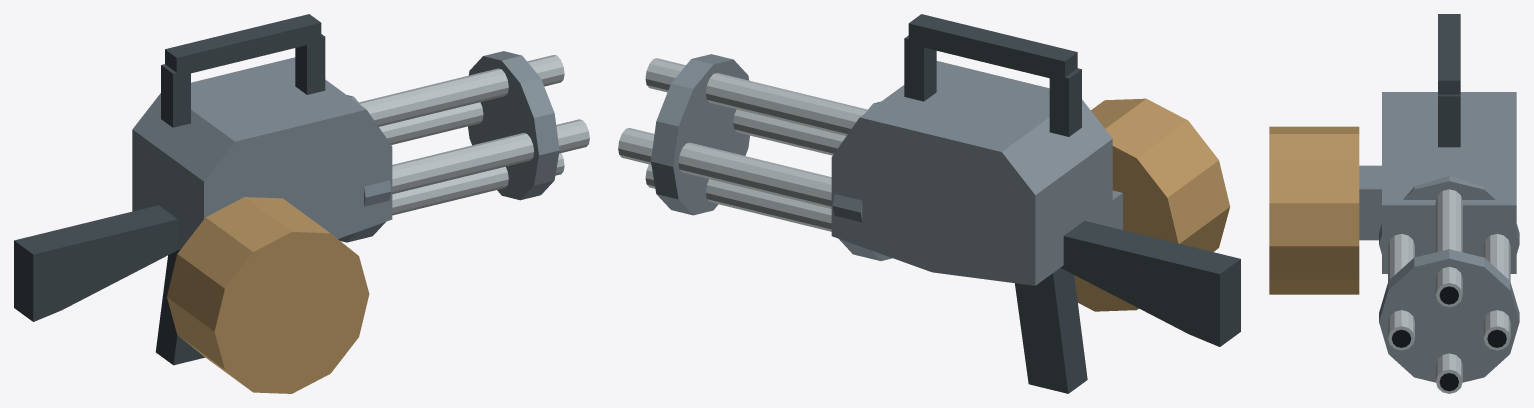
The model's file is w18-thunder-loom-static.glb.
3 views of the same model, side by side, from view 1: azimuth 30°, elevation 25°; view 2: azimuth 150°, elevation 25°; view 3: azimuth 270°, elevation 25° (orthographic). The views are drawn at different scales.
Visible parts, largest first — view 1: w18-thunder-loom__receiver.001, w18-thunder-loom__feed_drum.001, w18-thunder-loom__stock.001, w18-thunder-loom__rotor_front_0.001, w18-thunder-loom__tube_0_2.001, w18-thunder-loom__tube_0_1.001, w18-thunder-loom__carry_handle_top.001, w18-thunder-loom__tube_0_3.001, w18-thunder-loom__tube_0_0.001, w18-thunder-loom__grip.001, w18-thunder-loom__carry_handle_mount_-0.001, w18-thunder-loom__carry_handle_mount_0.001 (+1 smaller); view 2: w18-thunder-loom__receiver.001, w18-thunder-loom__feed_drum.001, w18-thunder-loom__stock.001, w18-thunder-loom__rotor_front_0.001, w18-thunder-loom__grip.001, w18-thunder-loom__tube_0_0.001, w18-thunder-loom__tube_0_1.001, w18-thunder-loom__carry_handle_top.001, w18-thunder-loom__tube_0_3.001, w18-thunder-loom__tube_0_2.001, w18-thunder-loom__carry_handle_mount_-0.001, w18-thunder-loom__carry_handle_mount_0.001 (+1 smaller); view 3: w18-thunder-loom__receiver.001, w18-thunder-loom__feed_drum.001, w18-thunder-loom__rotor_front_0.001, w18-thunder-loom__tube_0_1.001, w18-thunder-loom__carry_handle_top.001, w18-thunder-loom__feed_bridge.001, w18-thunder-loom__tube_0_0.001, w18-thunder-loom__tube_0_2.001, w18-thunder-loom__rotor_rear_0.001, w18-thunder-loom__carry_handle_mount_0.001, w18-thunder-loom__tube_0_3.001, w18-thunder-loom__tube_0_1_bore.001 (+3 smaller).
Boxes of the visible parts, x1=… form: w18-thunder-loom__receiver.001: x1=132, y1=57, x2=392, y2=248; w18-thunder-loom__feed_drum.001: x1=167, y1=197, x2=369, y2=393; w18-thunder-loom__stock.001: x1=14, y1=205, x2=180, y2=321; w18-thunder-loom__rotor_front_0.001: x1=468, y1=51, x2=559, y2=200; w18-thunder-loom__tube_0_2.001: x1=392, y1=119, x2=589, y2=194; w18-thunder-loom__tube_0_1.001: x1=359, y1=55, x2=564, y2=126; w18-thunder-loom__carry_handle_top.001: x1=165, y1=14, x2=321, y2=76; w18-thunder-loom__tube_0_3.001: x1=392, y1=153, x2=564, y2=215; w18-thunder-loom__tube_0_0.001: x1=379, y1=102, x2=483, y2=144; w18-thunder-loom__grip.001: x1=155, y1=249, x2=204, y2=365; w18-thunder-loom__carry_handle_mount_-0.001: x1=161, y1=64, x2=190, y2=127; w18-thunder-loom__carry_handle_mount_0.001: x1=295, y1=34, x2=325, y2=94; w18-thunder-loom__receiver.001: x1=831, y1=61, x2=1112, y2=285; w18-thunder-loom__feed_drum.001: x1=1074, y1=98, x2=1230, y2=311; w18-thunder-loom__stock.001: x1=1060, y1=220, x2=1240, y2=346; w18-thunder-loom__rotor_front_0.001: x1=651, y1=54, x2=749, y2=215; w18-thunder-loom__grip.001: x1=1015, y1=267, x2=1087, y2=393; w18-thunder-loom__tube_0_0.001: x1=618, y1=128, x2=831, y2=208; w18-thunder-loom__tube_0_1.001: x1=645, y1=58, x2=867, y2=135; w18-thunder-loom__carry_handle_top.001: x1=908, y1=14, x2=1077, y2=81; w18-thunder-loom__tube_0_3.001: x1=645, y1=164, x2=831, y2=231; w18-thunder-loom__tube_0_2.001: x1=733, y1=109, x2=846, y2=155; w18-thunder-loom__carry_handle_mount_-0.001: x1=1049, y1=68, x2=1081, y2=136; w18-thunder-loom__carry_handle_mount_0.001: x1=904, y1=35, x2=936, y2=101; w18-thunder-loom__receiver.001: x1=1382, y1=92, x2=1516, y2=273; w18-thunder-loom__feed_drum.001: x1=1269, y1=126, x2=1359, y2=294; w18-thunder-loom__rotor_front_0.001: x1=1379, y1=249, x2=1519, y2=382; w18-thunder-loom__tube_0_1.001: x1=1435, y1=189, x2=1462, y2=307; w18-thunder-loom__carry_handle_top.001: x1=1438, y1=14, x2=1460, y2=94; w18-thunder-loom__feed_bridge.001: x1=1359, y1=165, x2=1381, y2=240; w18-thunder-loom__tube_0_0.001: x1=1483, y1=234, x2=1510, y2=350; w18-thunder-loom__tube_0_2.001: x1=1388, y1=234, x2=1414, y2=350; w18-thunder-loom__rotor_rear_0.001: x1=1379, y1=175, x2=1519, y2=274; w18-thunder-loom__carry_handle_mount_0.001: x1=1438, y1=94, x2=1460, y2=147; w18-thunder-loom__tube_0_3.001: x1=1435, y1=353, x2=1462, y2=393; w18-thunder-loom__tube_0_1_bore.001: x1=1439, y1=286, x2=1458, y2=304.
Bounding box in the file's own units: 1.04 × 0.5623 × 0.445.
